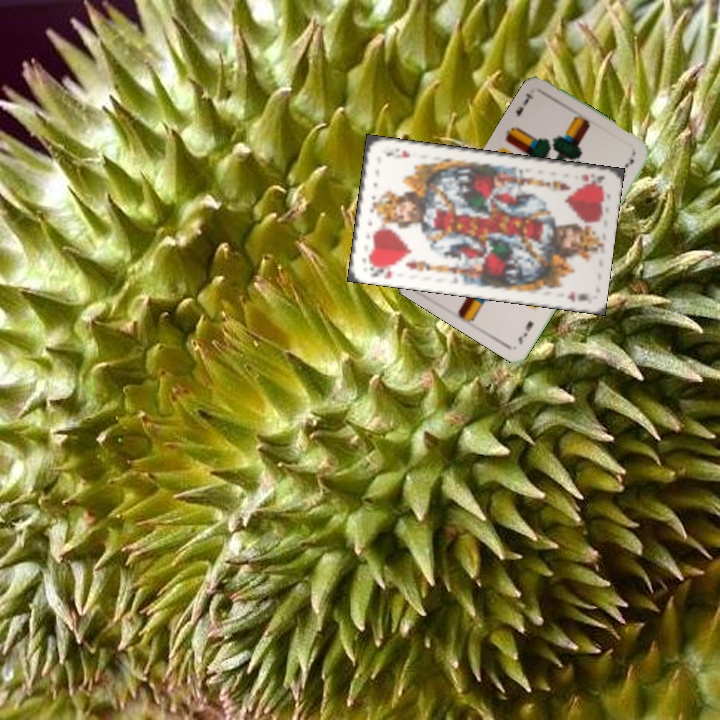E7: (512, 89, 536, 120), (514, 317, 536, 347)
HK: (364, 259, 394, 282), (576, 170, 607, 189)
